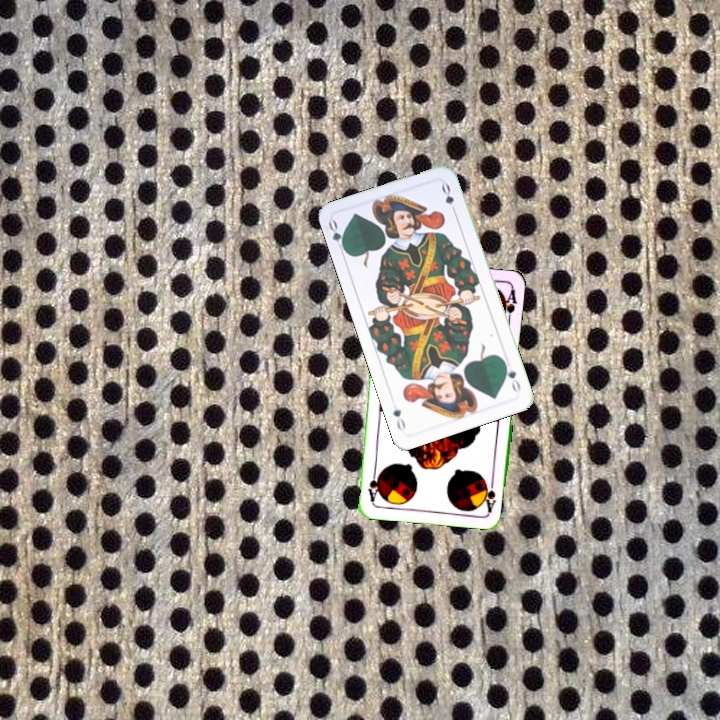GO: (324, 216, 349, 256), (500, 358, 523, 395)
SA: (481, 473, 499, 514)
